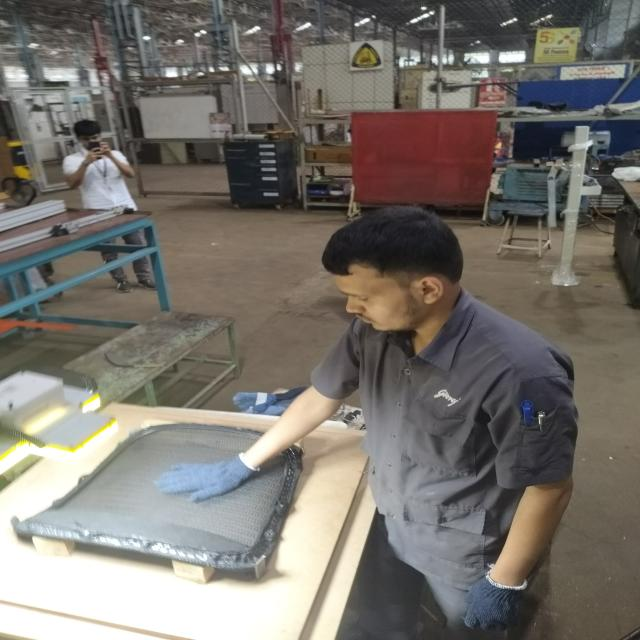Gloves-Detection: (161, 453, 247, 501), (471, 567, 527, 634)
